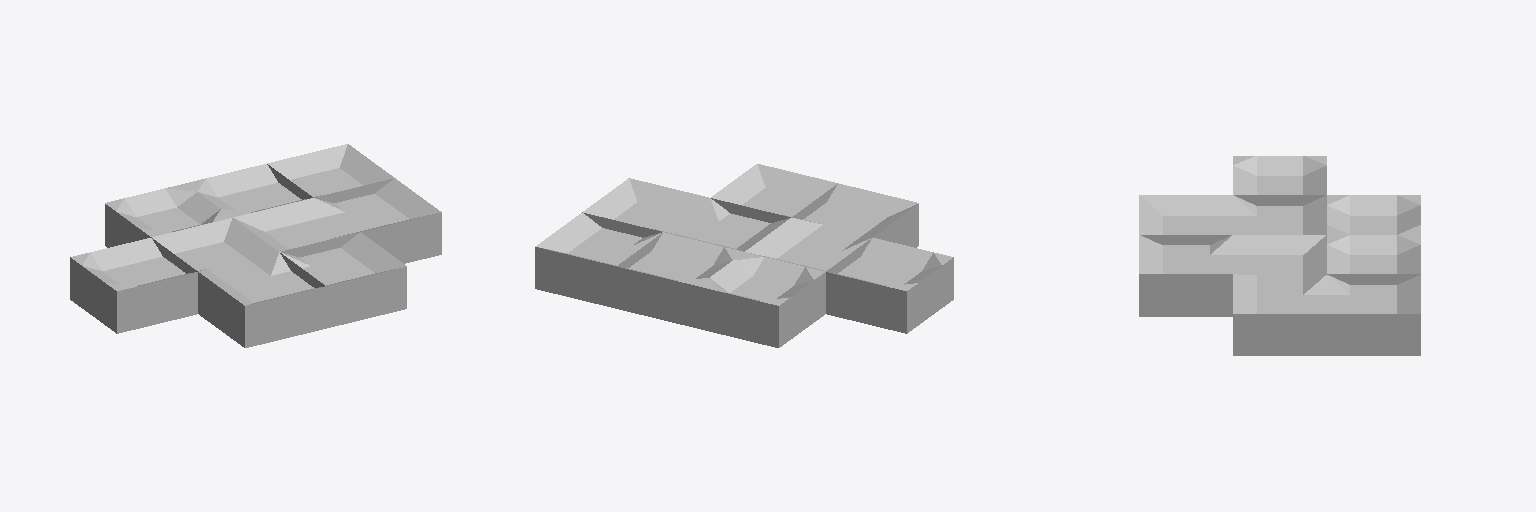
Rendered from 43s_path.obj.
The picture shows the model from 3 angles: view 1: azimuth 30°, elevation 25°; view 2: azimuth 150°, elevation 25°; view 3: azimuth 270°, elevation 25°; orthographic projection.
Parts seen in each view (by area): view 1: ending.1.3_ending.469, corner.2.2_corner.1159, corner.3.2_corner.1161, corner.4.3_corner.1163, hole.2.4_Cube.236, corner.2.3_corner.1160, corner.4.4_corner.1164, corner.3.3_corner.1162, ending.3.4_ending.470; view 2: hole.2.4_Cube.236, ending.1.3_ending.469, corner.4.4_corner.1164, ending.3.4_ending.470, corner.2.2_corner.1159, corner.4.3_corner.1163, corner.3.2_corner.1161, corner.2.3_corner.1160, corner.3.3_corner.1162; view 3: corner.4.4_corner.1164, corner.3.2_corner.1161, corner.4.3_corner.1163, corner.2.2_corner.1159, corner.3.3_corner.1162, corner.2.3_corner.1160, hole.2.4_Cube.236, ending.1.3_ending.469, ending.3.4_ending.470.
Part boxes in pixels (x1,y1,x2,y2): ending.1.3_ending.469: (70, 238, 197, 333); corner.2.2_corner.1159: (198, 252, 325, 347); corner.3.2_corner.1161: (280, 232, 406, 328); corner.4.3_corner.1163: (314, 178, 441, 263); hole.2.4_Cube.236: (105, 183, 231, 247); corner.2.3_corner.1160: (151, 218, 278, 276); corner.4.4_corner.1164: (267, 144, 393, 199); corner.3.3_corner.1162: (233, 198, 359, 257); ending.3.4_ending.470: (186, 164, 310, 217); hole.2.4_Cube.236: (698, 252, 825, 347); ending.1.3_ending.469: (826, 238, 953, 333); corner.4.4_corner.1164: (535, 213, 662, 308); ending.3.4_ending.470: (617, 232, 743, 328); corner.2.2_corner.1159: (792, 183, 918, 247); corner.4.3_corner.1163: (582, 178, 709, 237); corner.3.2_corner.1161: (711, 164, 837, 222); corner.2.3_corner.1160: (745, 218, 872, 273); corner.3.3_corner.1162: (665, 198, 789, 251); corner.4.4_corner.1164: (1327, 274, 1420, 355); corner.3.2_corner.1161: (1139, 235, 1232, 316); corner.4.3_corner.1163: (1233, 275, 1326, 355); corner.2.2_corner.1159: (1139, 195, 1232, 244); corner.3.3_corner.1162: (1233, 235, 1326, 284); corner.2.3_corner.1160: (1233, 195, 1326, 234); hole.2.4_Cube.236: (1327, 195, 1420, 234); ending.1.3_ending.469: (1233, 156, 1326, 194); ending.3.4_ending.470: (1327, 235, 1420, 273).
Size of the model in its own units: 8 by 1 by 6.